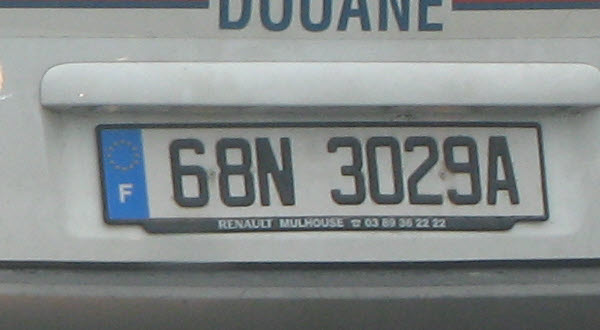license_plate: (93, 121, 550, 235)
